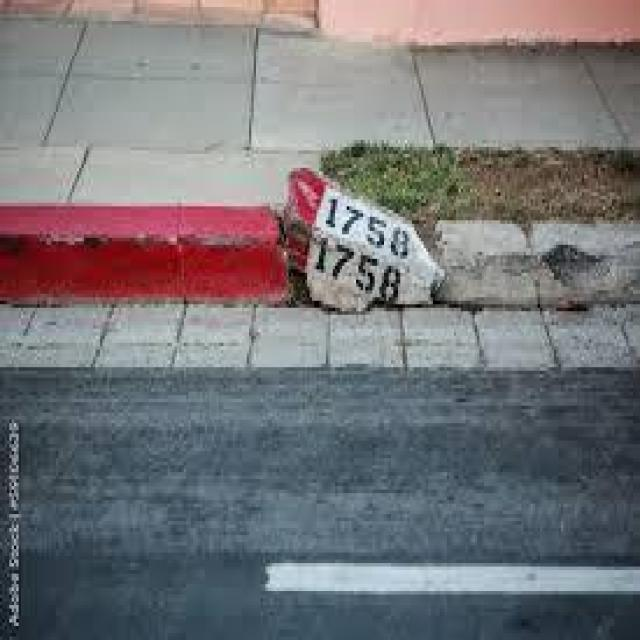curb: (2, 209, 292, 308), (440, 222, 640, 309)
